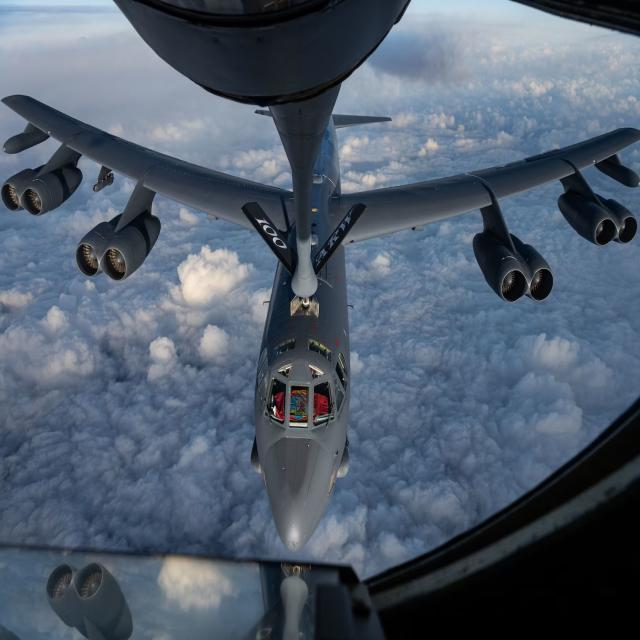B52: (0, 7, 637, 639)
